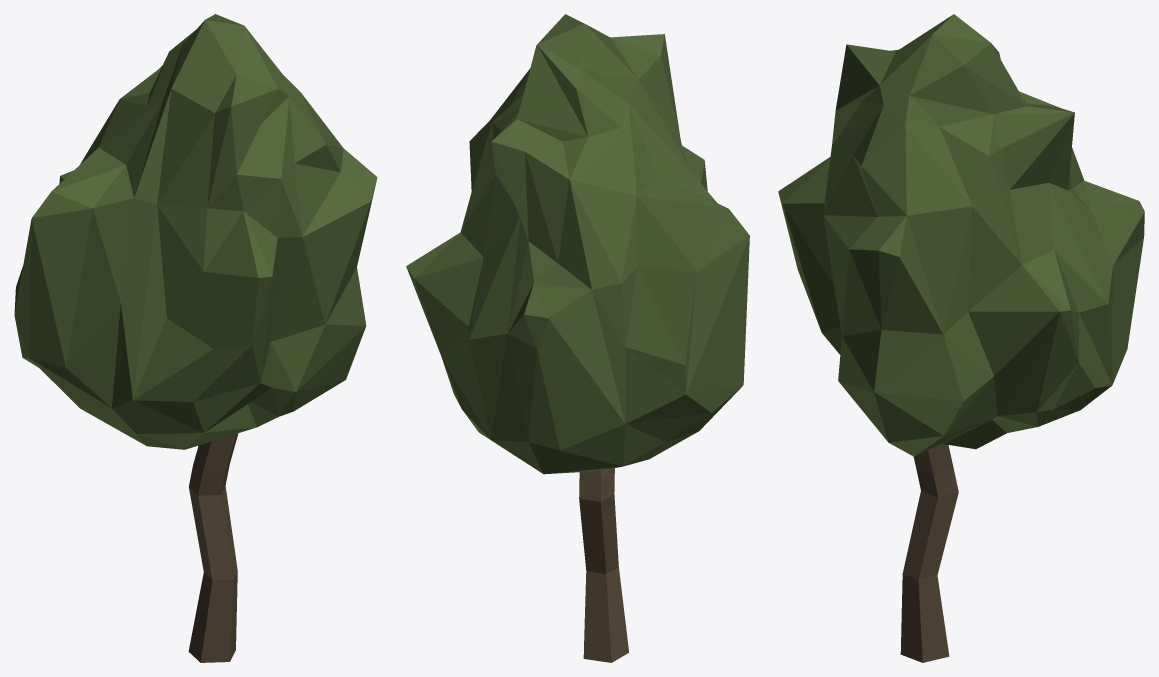
File: tree_040.fbx
3 renders of one model, left to right at view 1: azimuth 30°, elevation 25°; view 2: azimuth 150°, elevation 25°; view 3: azimuth 270°, elevation 25°, orthographic. The views are drawn at different scales.
Visible parts, largest first — view 1: tree_040; view 2: tree_040; view 3: tree_040.
Boxes of the visible parts, x1=… form: tree_040: x1=14, y1=14, x2=377, y2=662; tree_040: x1=406, y1=14, x2=749, y2=662; tree_040: x1=778, y1=14, x2=1144, y2=662.
Bounding box in the file's own units: 0.5061 × 0.9833 × 0.5097.
Materials: 1 (1 with a texture image).
